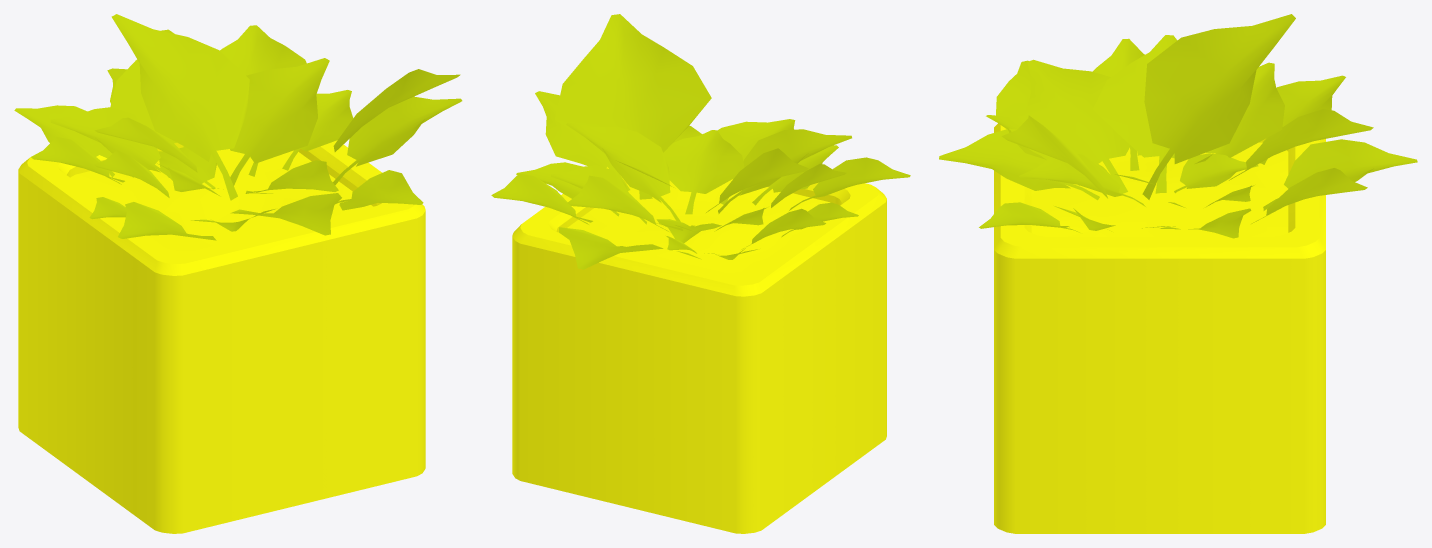
File: SM_Plant01.glb
3 renders of one model, left to right at view 1: azimuth 30°, elevation 25°; view 2: azimuth 150°, elevation 25°; view 3: azimuth 270°, elevation 25°, orthographic. The views are drawn at different scales.
Visible parts, largest first — view 1: SM_Plant01; view 2: SM_Plant01; view 3: SM_Plant01.
Part boxes in pixels (left/top/right/bottom): SM_Plant01: left=14, top=14, right=462, bottom=533; SM_Plant01: left=491, top=14, right=910, bottom=533; SM_Plant01: left=939, top=14, right=1417, bottom=533.
Size of what is drawn, in the model's own units: 0.2041 by 0.2067 by 0.2114.
1 material, 1 textured.
